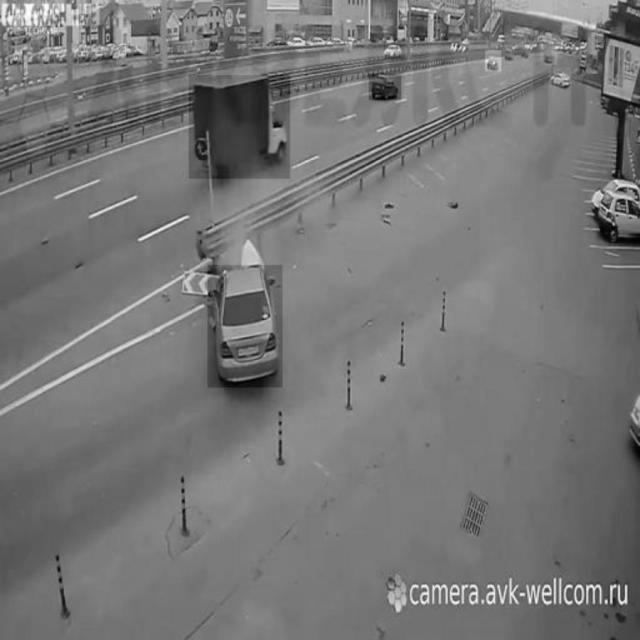vehicle: (189, 75, 290, 178), (208, 265, 282, 389), (596, 190, 640, 240), (369, 74, 401, 100), (541, 33, 558, 65), (384, 40, 404, 60), (550, 67, 570, 87), (485, 50, 501, 70)
